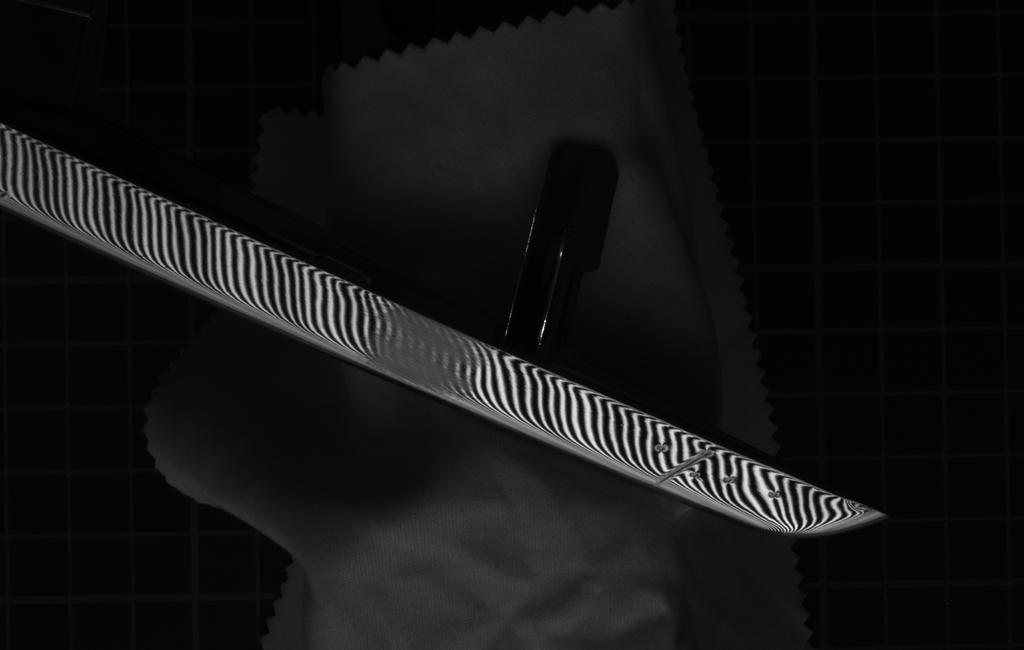Pierced: (718, 472, 743, 487), (652, 441, 674, 456), (767, 488, 787, 504), (687, 467, 706, 483)
Pitting: (360, 290, 487, 409)
Scratch: (650, 444, 720, 492)
